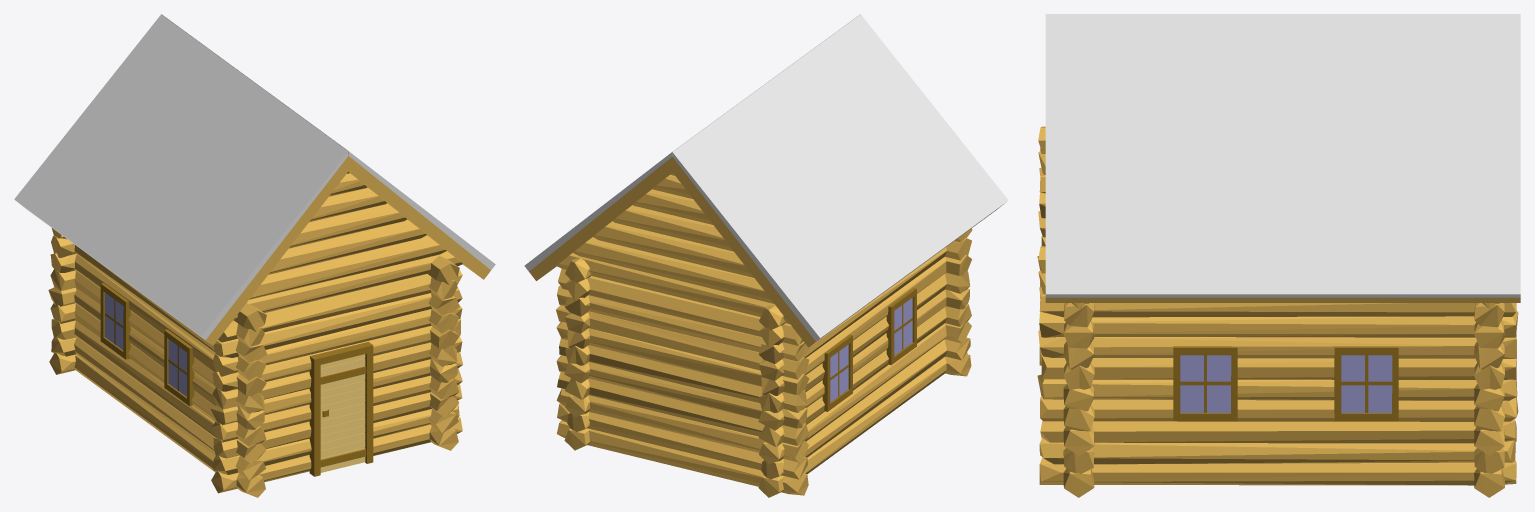
The model's file is props cabin.fbx.
3 views of the same model, side by side, from view 1: azimuth 30°, elevation 25°; view 2: azimuth 150°, elevation 25°; view 3: azimuth 270°, elevation 25° (orthographic). The views are drawn at different scales.
Parts seen in each view (by area): view 1: Cylinder.132; view 2: Cylinder.132; view 3: Cylinder.132.
Part boxes in pixels (x1,y1,x2,y2): Cylinder.132: (14,14,495,497); Cylinder.132: (524,14,1008,497); Cylinder.132: (1037,14,1520,497).
Bounding box in the file's own units: 1898 × 1987 × 2127.
